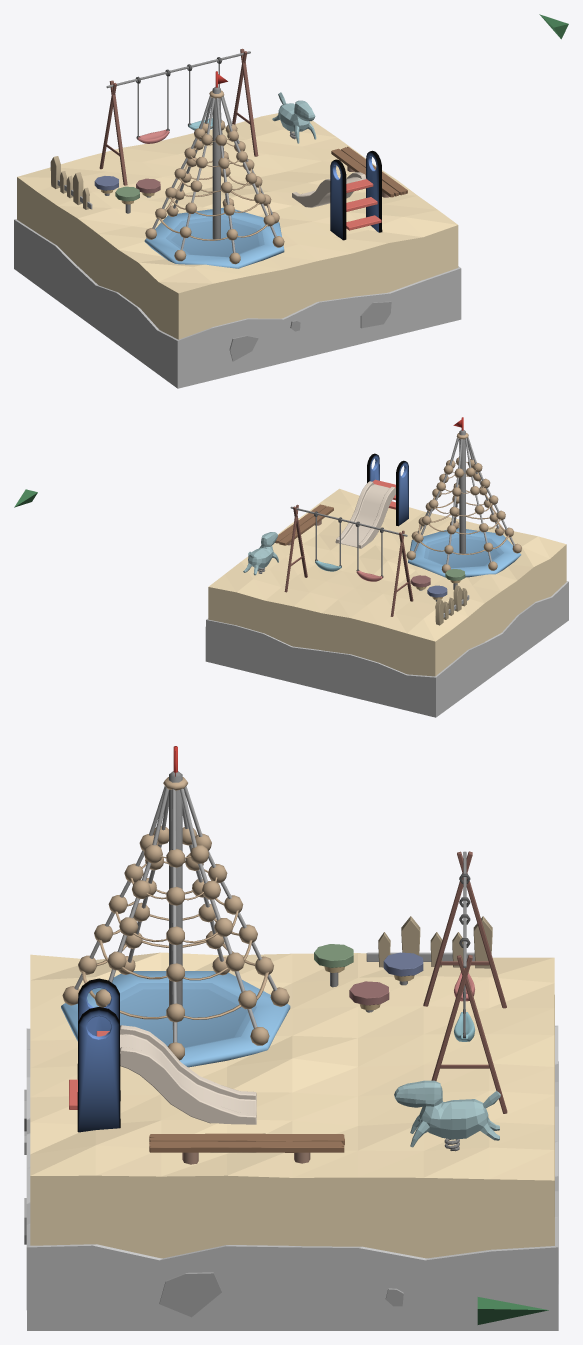
The model's file is park.glb.
3 renders of one model, top to bottom at view 1: azimuth 30°, elevation 25°; view 2: azimuth 150°, elevation 25°; view 3: azimuth 270°, elevation 25°, orthographic. The views are drawn at different scales.
Visible parts, largest first — view 1: Sand_1, Rock_1_0, pajia_5, huati_7, qiuqiangan.001_8, Rock_2, muma003_6, object 14, dengtui011_3; view 2: Sand_1, Rock_1_0, pajia_5, huati_7, qiuqiangan.001_8, muma003_6, dengtui011_3, object 14; view 3: Sand_1, Rock_1_0, pajia_5, huati_7, qiuqiangan.001_8, muma003_6, dengtui011_3, Rock_2, object 14, Grass_11, caigao05.002_10, caigao05.001_9 (+1 smaller).
Boxes of the visible parts, x1,y1,x2,y2 form: Sand_1: [17, 113, 458, 339]; Rock_1_0: [14, 219, 461, 388]; pajia_5: [144, 71, 284, 268]; huati_7: [292, 150, 382, 240]; qiuqiangan.001_8: [99, 48, 258, 185]; Rock_2: [229, 301, 391, 361]; muma003_6: [272, 92, 316, 143]; object 14: [50, 156, 92, 209]; dengtui011_3: [331, 146, 407, 197]; Sand_1: [208, 488, 566, 676]; Rock_1_0: [205, 581, 568, 717]; pajia_5: [406, 417, 521, 577]; huati_7: [335, 453, 408, 548]; qiuqiangan.001_8: [284, 504, 413, 616]; muma003_6: [243, 532, 278, 575]; dengtui011_3: [275, 504, 333, 545]; object 14: [435, 585, 469, 625]; Sand_1: [30, 952, 554, 1258]; Rock_1_0: [26, 1025, 558, 1330]; pajia_5: [61, 746, 290, 1067]; huati_7: [69, 978, 256, 1132]; qiuqiangan.001_8: [423, 851, 507, 1113]; muma003_6: [394, 1080, 500, 1151]; dengtui011_3: [149, 1133, 344, 1164]; Rock_2: [24, 1089, 403, 1317]; object 14: [366, 916, 492, 968]; Grass_11: [477, 1297, 548, 1324]; caigao05.002_10: [314, 944, 353, 987]; caigao05.001_9: [383, 952, 423, 985].
Size of what is drawn, in the model's own units: 3.79 by 1.79 by 2.04.
